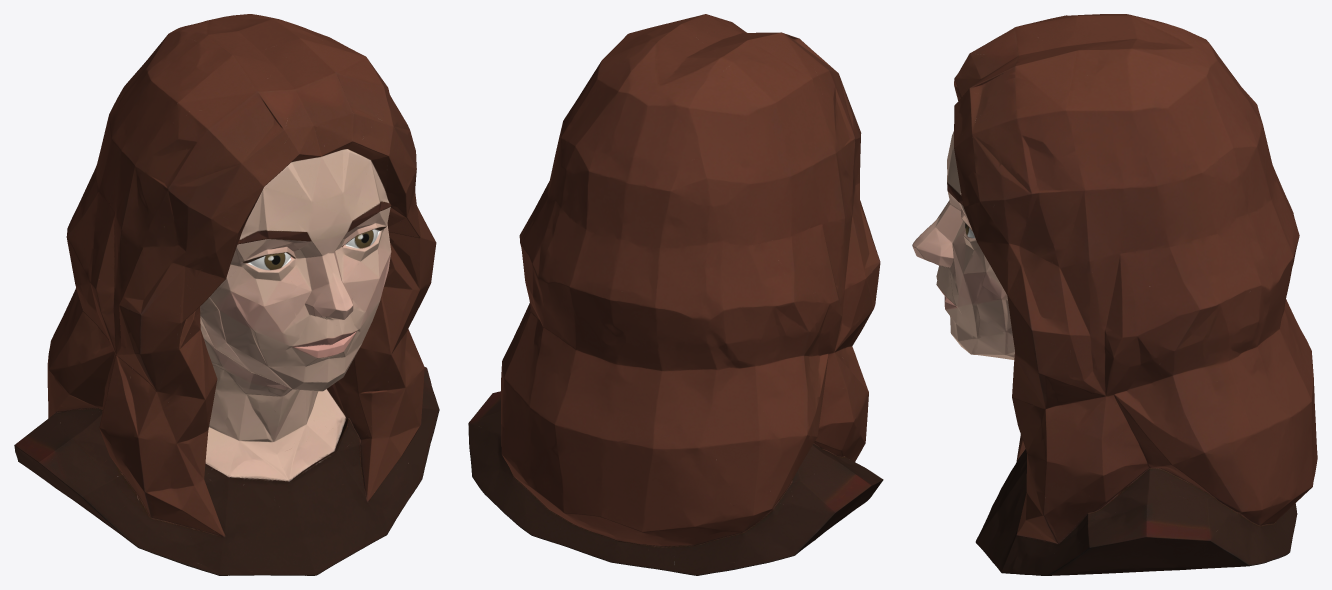
File: RoomHeadWoman.glb
3 views of the same model, side by side, from view 1: azimuth 30°, elevation 25°; view 2: azimuth 150°, elevation 25°; view 3: azimuth 270°, elevation 25° (orthographic). The views are drawn at different scales.
Bounding box in the file's own units: 1.56 × 1.9 × 1.37.
1 material, 1 textured.
